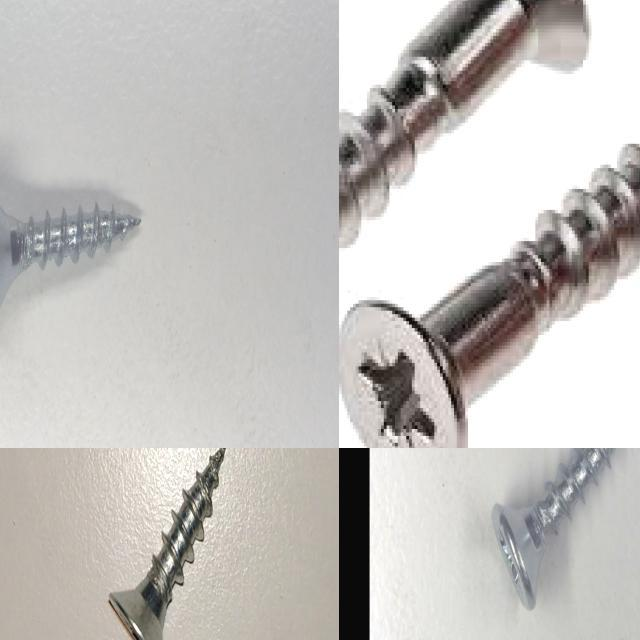Screw: (339, 137, 640, 448), (339, 0, 592, 251), (109, 448, 226, 640), (491, 448, 614, 609), (0, 203, 141, 306)
